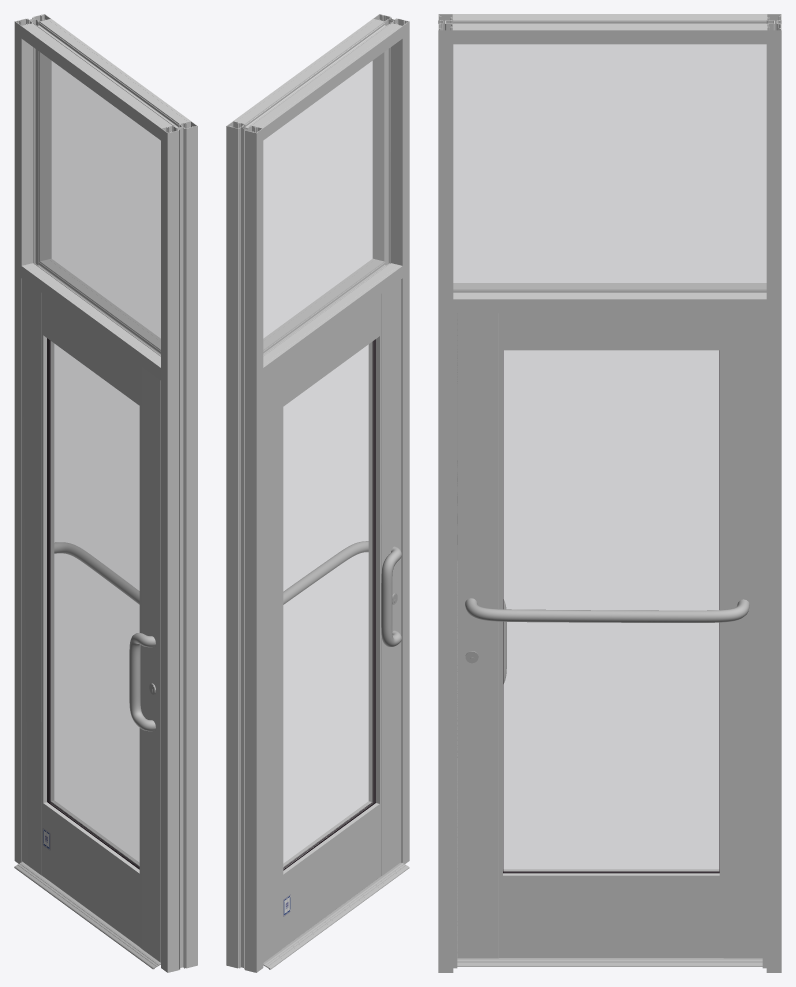
The picture shows the model from 3 angles, left to right: view 1: azimuth 30°, elevation 25°; view 2: azimuth 150°, elevation 25°; view 3: azimuth 270°, elevation 25°; orthographic projection. The views are drawn at different scales.
Parts seen in each view (by area): view 1: D500.016, D500.017, PROFILE_curve_.018, D500.001, PROFILE_curve_.023, D500.009, PROFILE_curve_.019, D500.011, D500.012, PROFILE_curve_.001, PROFILE_curve_.014, PROFILE_curve_.002 (+6 smaller); view 2: D500.016, D500.017, PROFILE_curve_.022, D500.009, PROFILE_curve_.019, PROFILE_curve_.023, D500.001, D500.011, D500.012, PROFILE_curve_.001, PROFILE_curve_.014, PROFILE_curve_.002 (+6 smaller); view 3: D500.016, D500.017, D500.009, D500.001, D500.011, PROFILE_curve_.023, PROFILE_curve_.019, D500.012, PROFILE_curve_.008, PROFILE_curve_.002, PROFILE_curve_.001, PROFILE_curve_.014 (+4 smaller).
Part boxes in pixels (x1,y1,x2,y2): D500.016: [47, 338, 139, 868]; D500.017: [34, 48, 160, 354]; PROFILE_curve_.018: [170, 126, 194, 971]; D500.001: [22, 279, 54, 876]; PROFILE_curve_.023: [14, 14, 51, 863]; D500.009: [139, 365, 160, 962]; PROFILE_curve_.019: [161, 121, 197, 972]; D500.011: [43, 800, 139, 946]; D500.012: [43, 294, 139, 405]; PROFILE_curve_.001: [25, 19, 187, 127]; PROFILE_curve_.014: [25, 259, 160, 364]; PROFILE_curve_.002: [21, 19, 190, 140]; D500.016: [283, 339, 375, 868]; D500.017: [263, 48, 389, 354]; PROFILE_curve_.022: [229, 126, 253, 971]; D500.009: [368, 279, 401, 876]; PROFILE_curve_.019: [372, 14, 409, 864]; PROFILE_curve_.023: [226, 121, 263, 972]; D500.001: [263, 366, 283, 962]; D500.011: [283, 801, 379, 947]; D500.012: [283, 295, 379, 406]; PROFILE_curve_.001: [236, 20, 399, 127]; PROFILE_curve_.014: [263, 259, 399, 364]; PROFILE_curve_.002: [233, 19, 402, 140]; D500.016: [503, 350, 718, 872]; D500.017: [453, 44, 766, 292]; D500.009: [457, 313, 502, 958]; D500.001: [719, 313, 762, 958]; D500.011: [503, 869, 719, 957]; PROFILE_curve_.023: [766, 14, 781, 972]; PROFILE_curve_.019: [438, 14, 453, 972]; D500.012: [503, 313, 719, 350]; PROFILE_curve_.008: [453, 283, 766, 313]; PROFILE_curve_.002: [453, 14, 766, 44]; PROFILE_curve_.001: [453, 15, 766, 28]; PROFILE_curve_.014: [453, 284, 766, 297].
Bounding box in the file's own units: 0.1922 × 3.05 × 1.01.
Materials: 8 (1 with a texture image).
